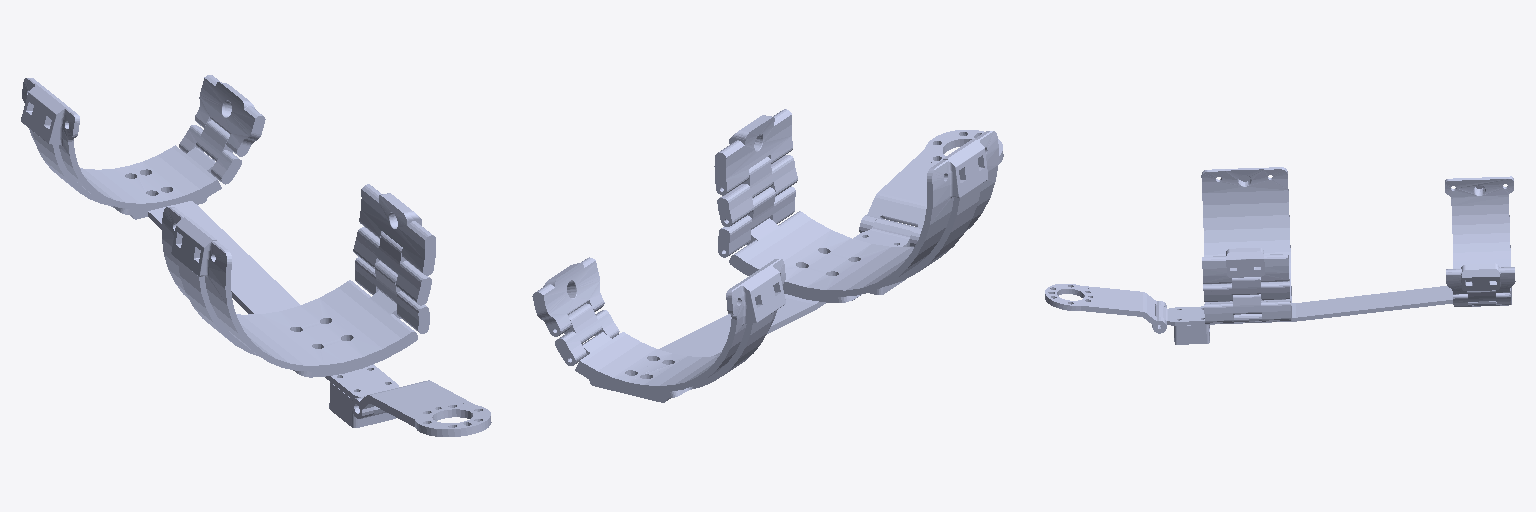
robot.urdf — knee_exo:
<?xml version="1.0" encoding="utf-8"?>
<!-- This URDF was automatically created by SolidWorks to URDF Exporter! Originally created by Stephen Brawner (brawner@gmail.com) 
     Commit Version: 1.6.0-4-g7f85cfe  Build Version: 1.6.7995.38578
     For more information, please see http://wiki.ros.org/sw_urdf_exporter -->
<robot
  name="knee_exo">
  <link
    name="base_link">
    <inertial>
      <origin
        xyz="0.0073767 -0.18865 0.0094714"
        rpy="0 0 0" />
      <mass
        value="0.35343" />
      <inertia
        ixx="0.00045581"
        ixy="6.1002E-06"
        ixz="-1.0677E-05"
        iyy="0.00044459"
        iyz="5.5582E-06"
        izz="0.00064814" />
    </inertial>
    <visual>
      <origin
        xyz="0 0 0"
        rpy="0 0 0" />
      <geometry>
        <mesh
          filename="package://knee_exo/meshes/base_link.STL" />
      </geometry>
      <material
        name="">
        <color
          rgba="1 1 1 1" />
      </material>
    </visual>
    <collision>
      <origin
        xyz="0 0 0"
        rpy="0 0 0" />
      <geometry>
        <mesh
          filename="package://knee_exo/meshes/base_link.STL" />
      </geometry>
    </collision>
  </link>
  <link
    name="shank_link">
    <inertial>
      <origin
        xyz="-0.0043207 0.15773 0.0087075"
        rpy="0 0 0" />
      <mass
        value="0.19648" />
      <inertia
        ixx="0.00032827"
        ixy="-1.7573E-06"
        ixz="4.4171E-05"
        iyy="0.00013433"
        iyz="-2.2475E-05"
        izz="0.00038484" />
    </inertial>
    <visual>
      <origin
        xyz="0 0 0"
        rpy="0 0 0" />
      <geometry>
        <mesh
          filename="package://knee_exo/meshes/shank_link.STL" />
      </geometry>
      <material
        name="">
        <color
          rgba="0.79608 0.82353 0.93725 1" />
      </material>
    </visual>
    <collision>
      <origin
        xyz="0 0 0"
        rpy="0 0 0" />
      <geometry>
        <mesh
          filename="package://knee_exo/meshes/shank_link.STL" />
      </geometry>
    </collision>
  </link>
  <joint
    name="knee_joint"
    type="revolute">
    <origin
      xyz="0 0 0"
      rpy="0 0 0" />
    <parent
      link="base_link" />
    <child
      link="shank_link" />
    <axis
      xyz="0 0 1" />
    <limit
      lower="0"
      upper="1.9199"
      effort="20"
      velocity="20" />
  </joint>
</robot>

--- What the picture shows (computed from the rendered views, not written in the file) ---
Views: 3 orthographic renders of the robot side by side, from view 1: azimuth 30°, elevation 25°; view 2: azimuth 150°, elevation 25°; view 3: azimuth 270°, elevation 25°.
Model knee_exo with 2 links and 1 joints (1 revolute), rooted at base_link, posed all joints at 0.
Visible links, largest first — view 1: shank_link; view 2: shank_link; view 3: shank_link.
Boxes of the visible links, x1,y1,x2,y2 form: shank_link: (21, 75, 491, 436); shank_link: (532, 109, 1003, 402); shank_link: (1045, 167, 1515, 344).
Size in the robot's own frame: 0.1257 by 0.3273 by 0.0985 metres.
1 mesh visuals loaded from 2 distinct referenced files (1 binary STL); not drawn: 1 (reference not matched to a file when rendering).
